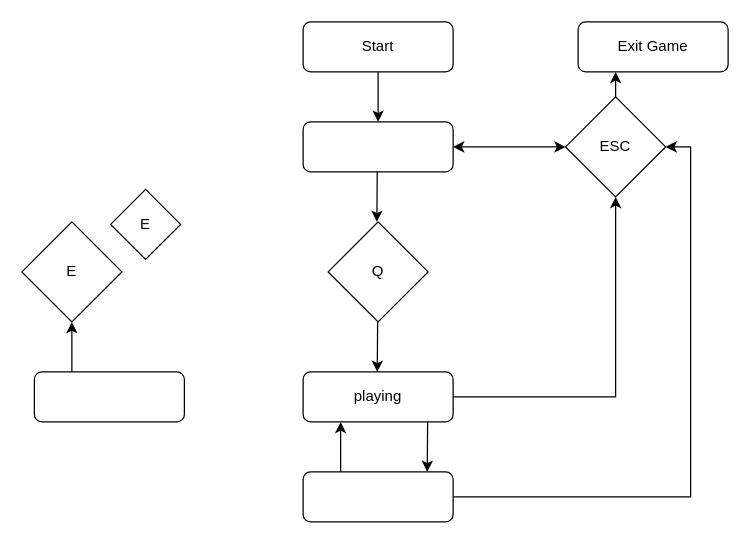
Some shapes in this 750 by 544 pixel diagram are drawn without their labels. Each missing label, with the centre of its shape:
"death" belongs at pixel 377 496.
"Infopage" belongs at pixel 108 396.
"main Menu" belongs at pixel 377 146.
